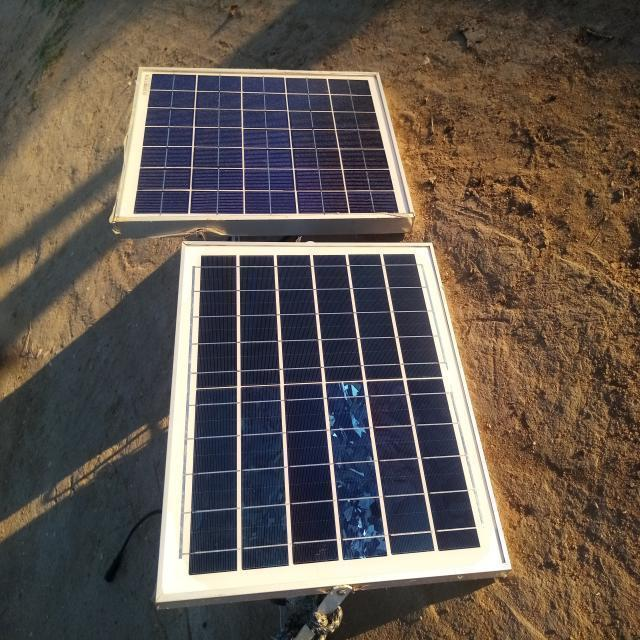Normal Solar Panel: (158, 242, 509, 601), (112, 70, 409, 222)
